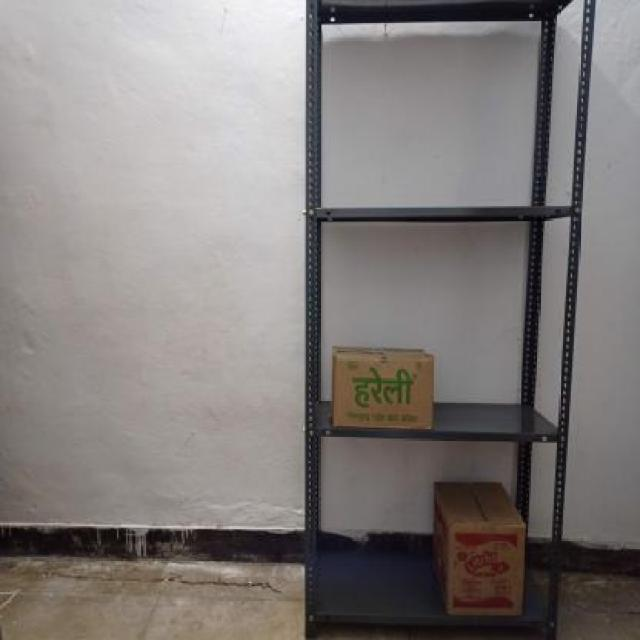box: (332, 356, 436, 430), (449, 522, 526, 616)
